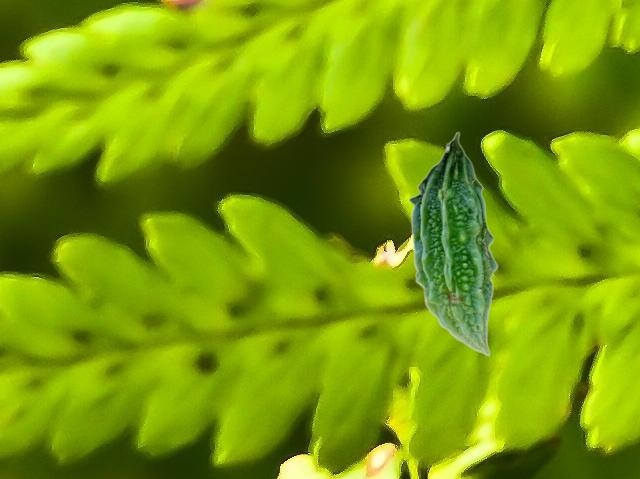ampalaya: (407, 131, 498, 357)
